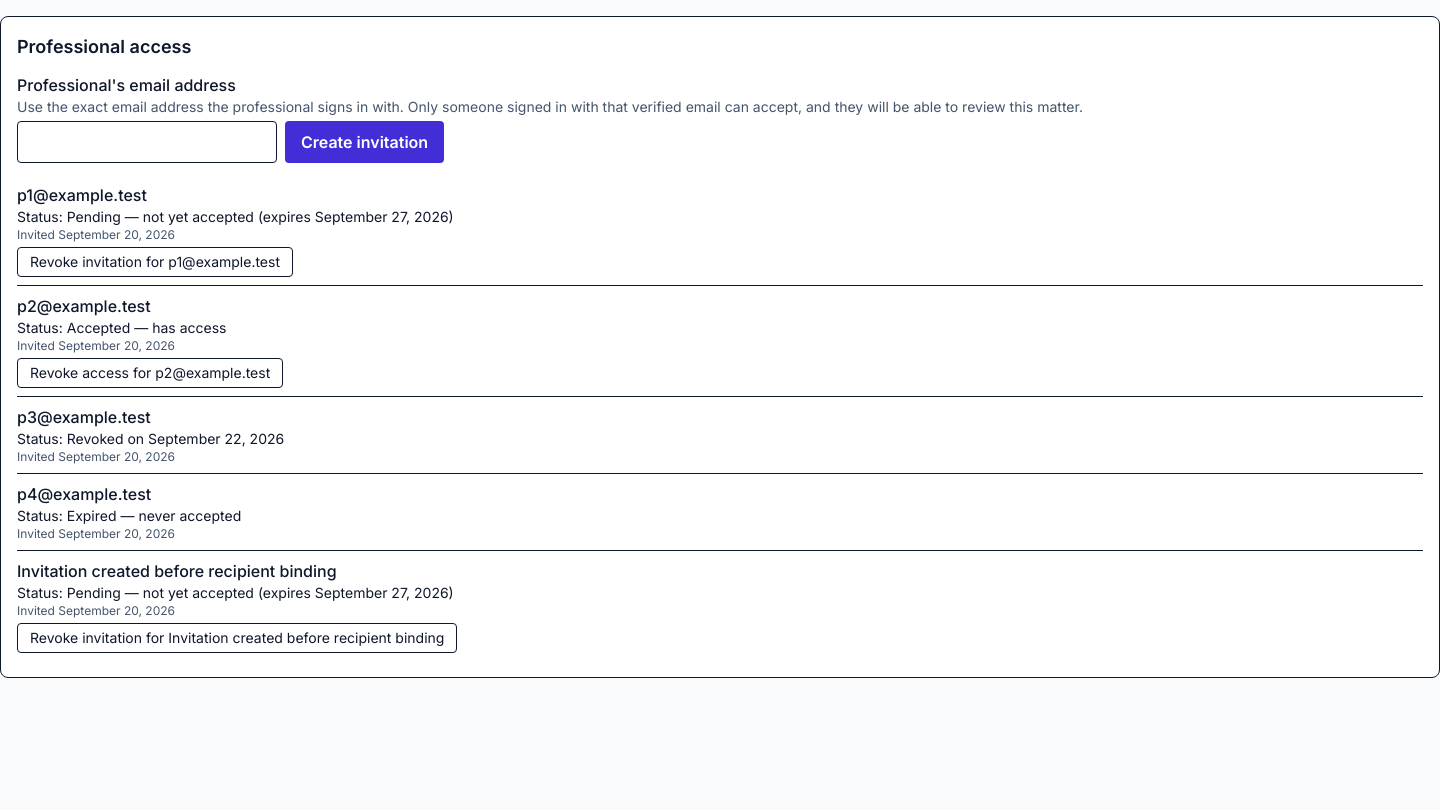
Test: Stage 10 slice 8: ProfessionalAccessPanel › errors are associated with the input and announced; server text is never shown
Click the button "Create invitation": coordinates (365, 142) top-left (285, 121), bottom-right (444, 163)
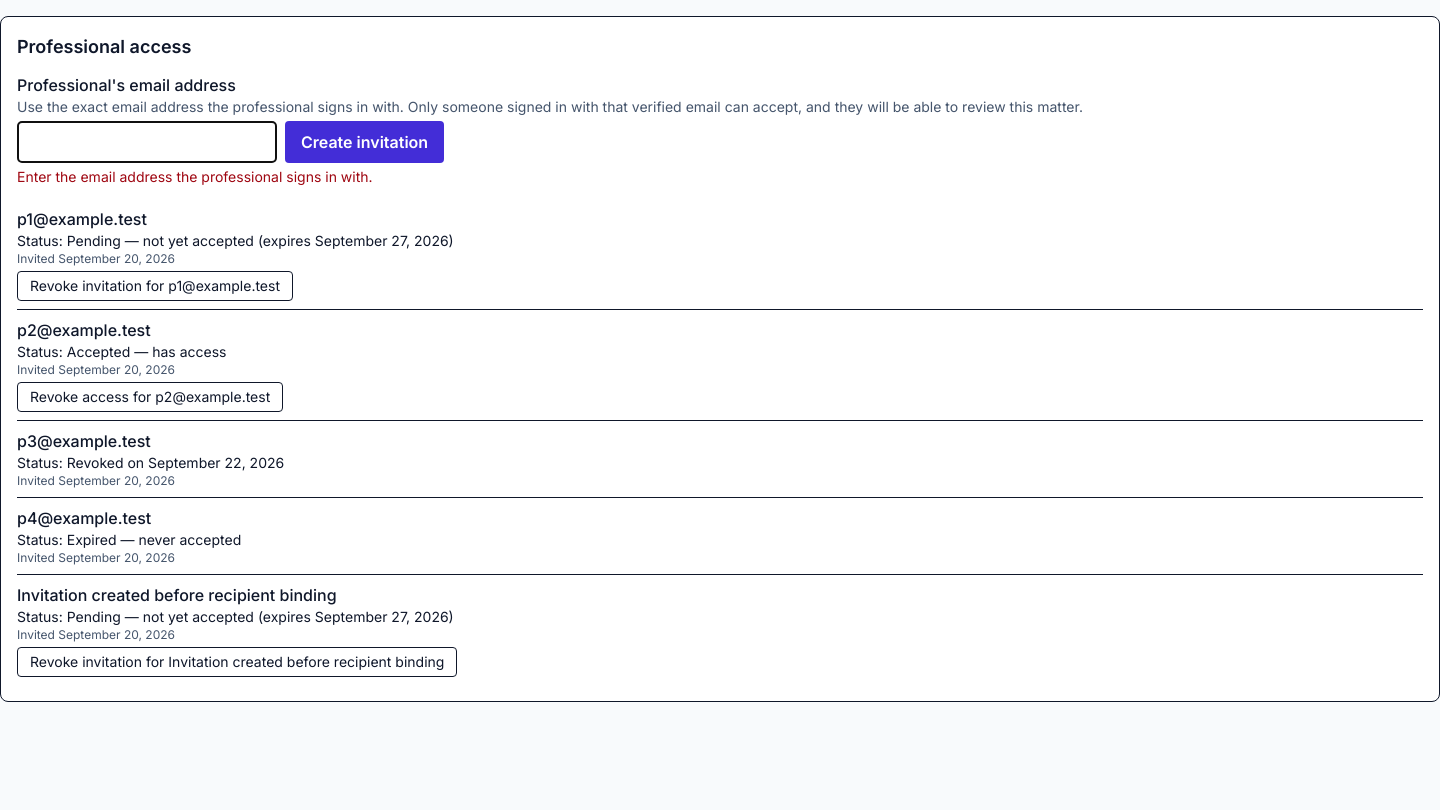
Expected: the message shows "email address the professional signs in with", top-left (17, 168), bottom-right (373, 185)
In the field labelled "Professional's email address": coordinates (147, 142) top-left (17, 121), bottom-right (277, 163), type "pro@example.test"
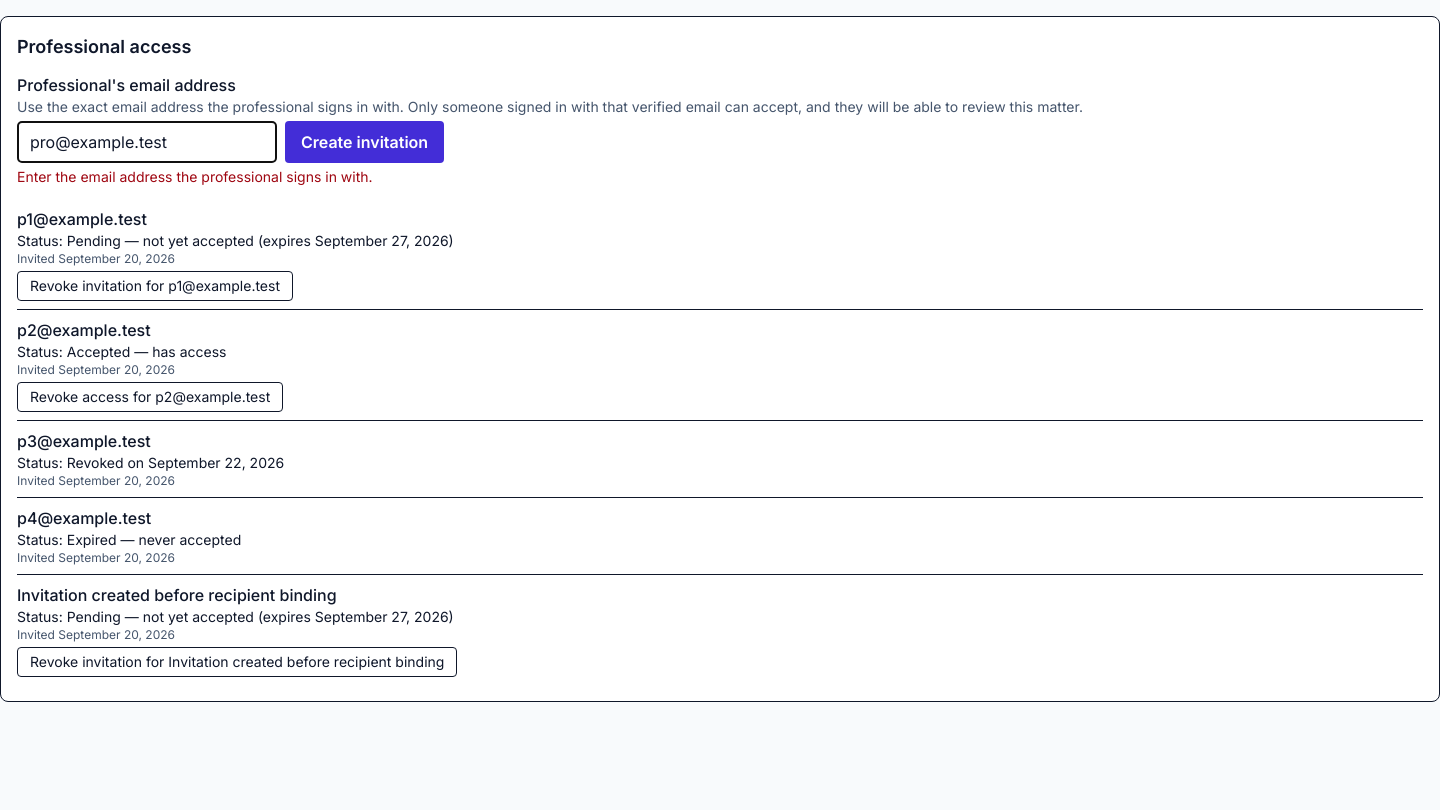
Click the button "Create invitation": coordinates (365, 142) top-left (285, 121), bottom-right (444, 163)
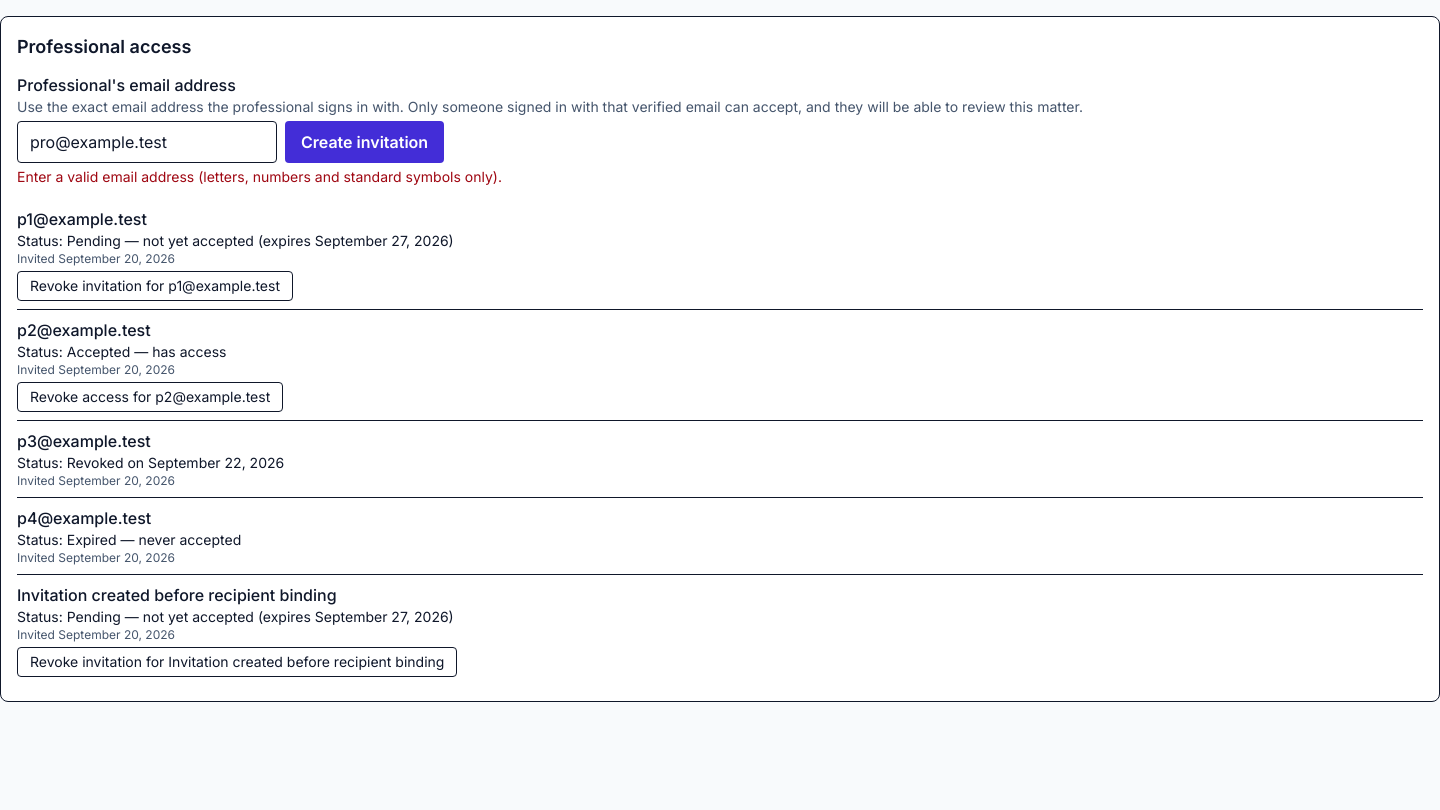
Expected: the message shows "Enter a valid email address", top-left (17, 168), bottom-right (502, 185)
